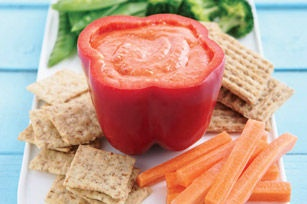background: (9, 0, 143, 65)
